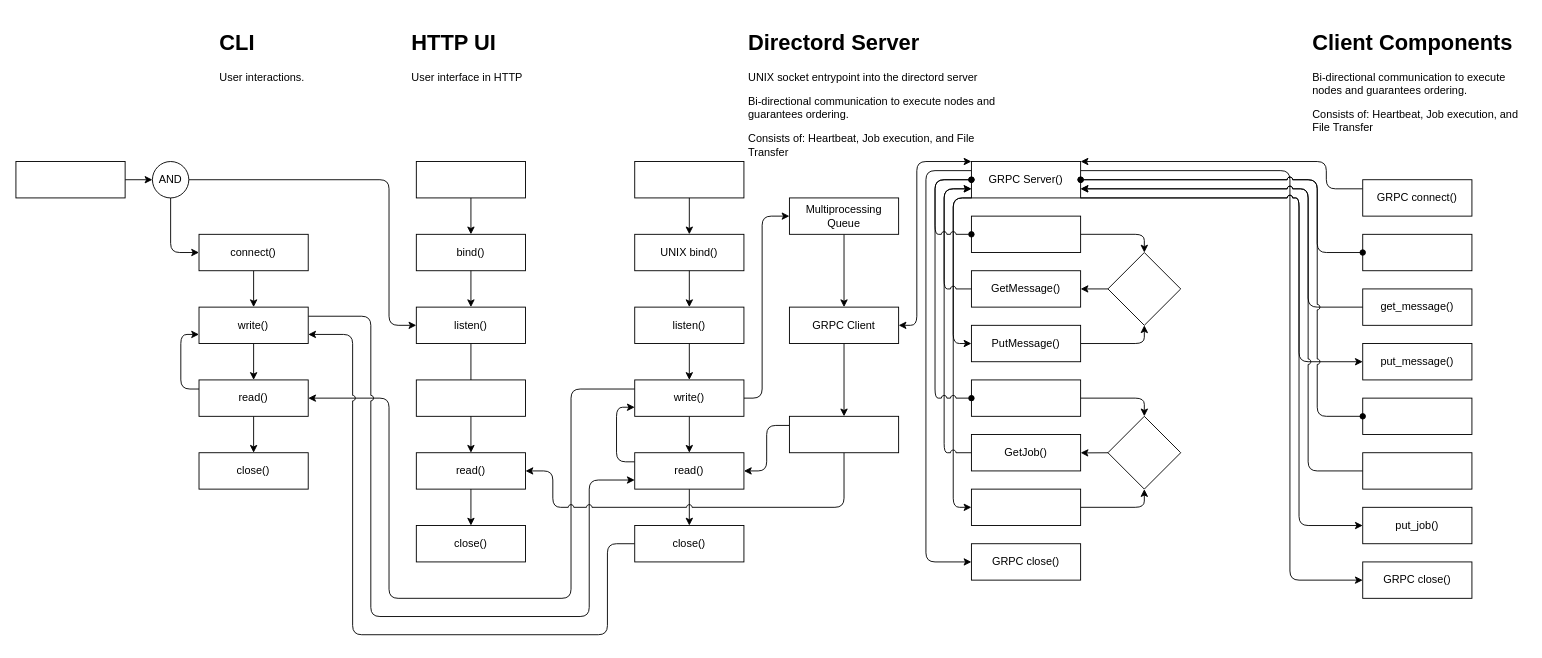
The diagram is 1542 pixels wide and 658 high, and some of its shapes have lost their labels. Here are the shapes that lost their labels. From the top down, the centre of each, then its label:
At pixel 70 179: "USER".
At pixel 470 179: "socket()".
At pixel 689 179: "UNIX socket()".
At pixel 1026 234: "MessageCheck()".
At pixel 1417 252: "message_check()".
At pixel 1144 288: "MSG Queue".
At pixel 470 397: "accept()".
At pixel 1026 397: "JobCheck()".
At pixel 1417 416: "job_check()".
At pixel 844 434: "Datastore".
At pixel 1144 452: "JOB Queue".
At pixel 1417 470: "get_job()".
At pixel 1026 507: "PutJob()".
